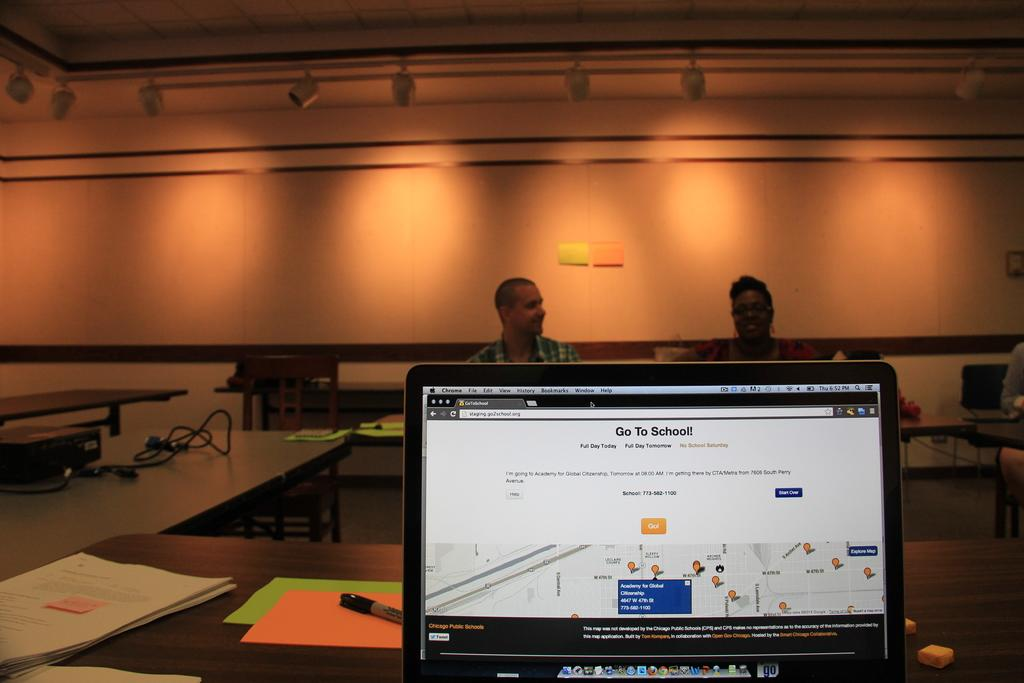Computer-monitor: (407, 374, 909, 670)
Laptop: (345, 374, 905, 683)
